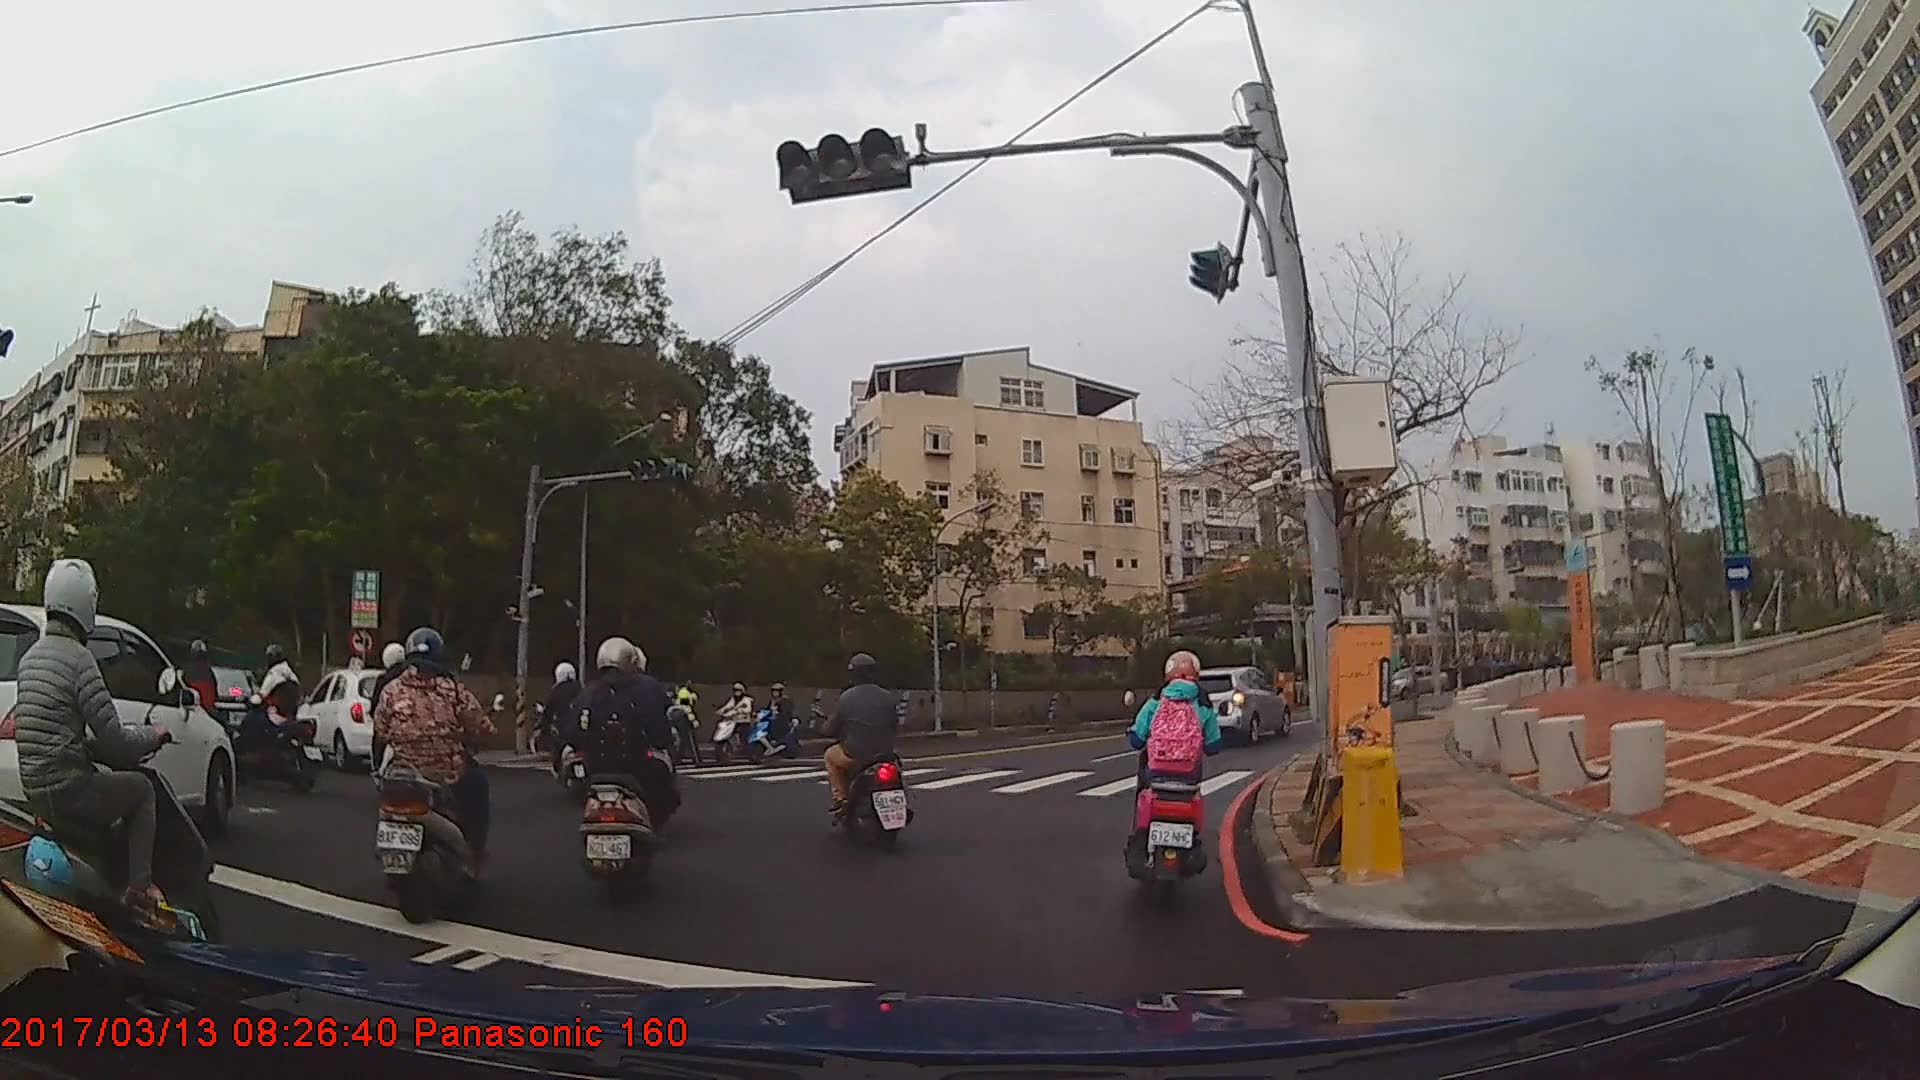pedestrian: (667, 672, 711, 775)
rider: (1, 555, 227, 1003), (370, 627, 496, 921), (564, 636, 679, 901), (1130, 651, 1230, 901), (817, 650, 911, 851), (527, 660, 609, 803), (240, 640, 309, 789), (161, 637, 225, 774), (751, 682, 804, 761), (716, 681, 760, 761)
vehicle: (0, 602, 234, 844), (292, 667, 422, 766), (1169, 665, 1291, 745), (1382, 663, 1452, 700)
